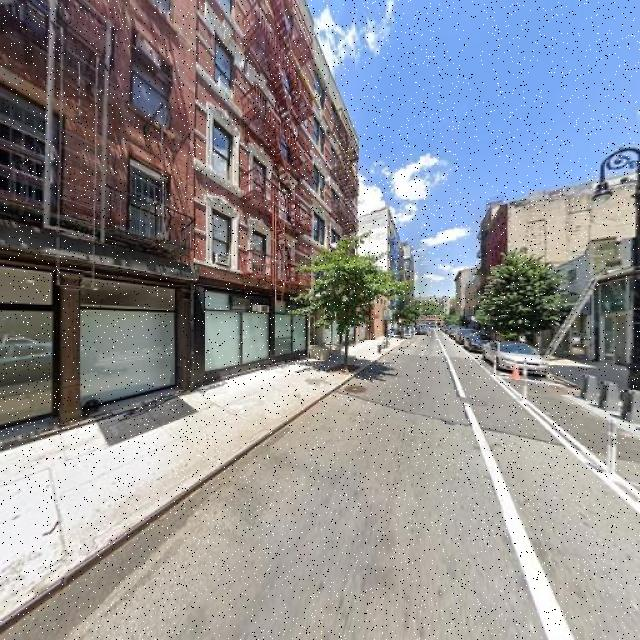Building: (1, 1, 192, 445), (195, 1, 352, 389)
